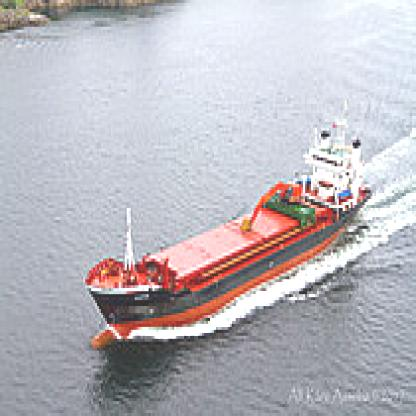Tanker: (61, 116, 380, 345)
